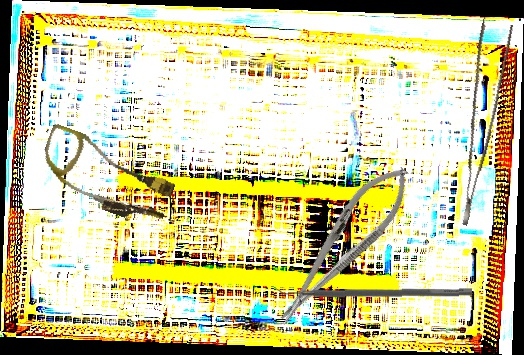Cannula: (31, 122, 182, 231)
Needle Holder: (263, 154, 424, 335)
Spatula Surgical: (274, 280, 473, 300)
Tissue Forceps: (427, 17, 524, 226)
